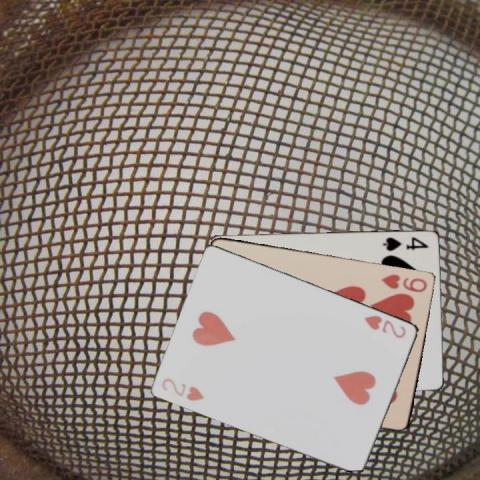2h: (159, 374, 206, 402), (361, 312, 408, 339)
4s: (380, 234, 430, 252)
9h: (378, 271, 428, 293)
